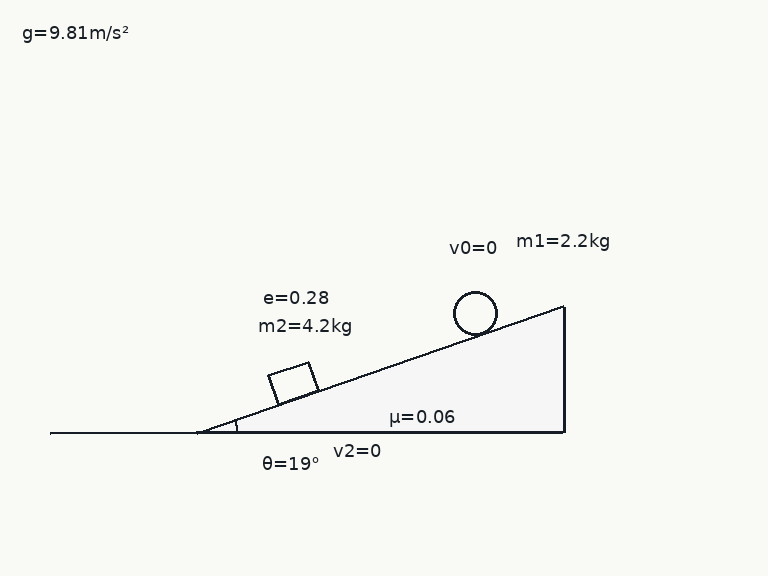ball: (451, 289, 499, 337)
block: (266, 360, 320, 406)
ramp: (195, 304, 565, 434)
